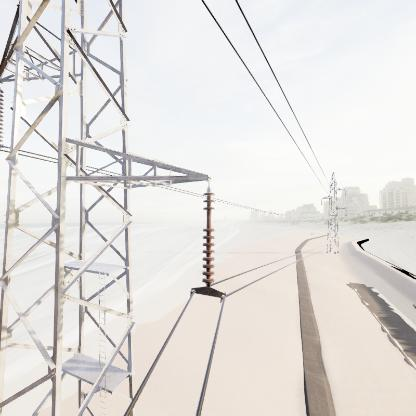insulator: (200, 188, 217, 291)
tower: (319, 170, 350, 257)
